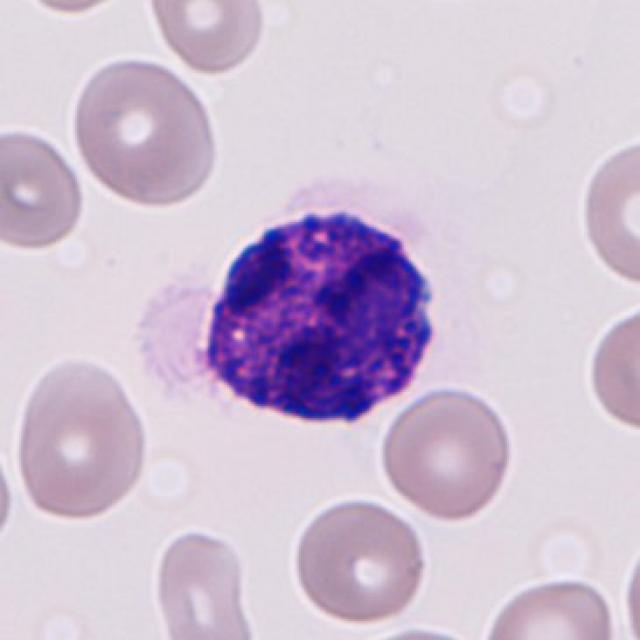Basophil: (172, 177, 456, 440)
RBC: (66, 54, 224, 210), (11, 352, 152, 524), (376, 383, 516, 524), (287, 493, 432, 626), (150, 525, 258, 640), (0, 125, 87, 255), (575, 134, 640, 293), (476, 572, 622, 640), (141, 0, 269, 76), (584, 300, 638, 437), (619, 525, 640, 640), (341, 624, 490, 640), (7, 0, 142, 16), (0, 439, 16, 557)
